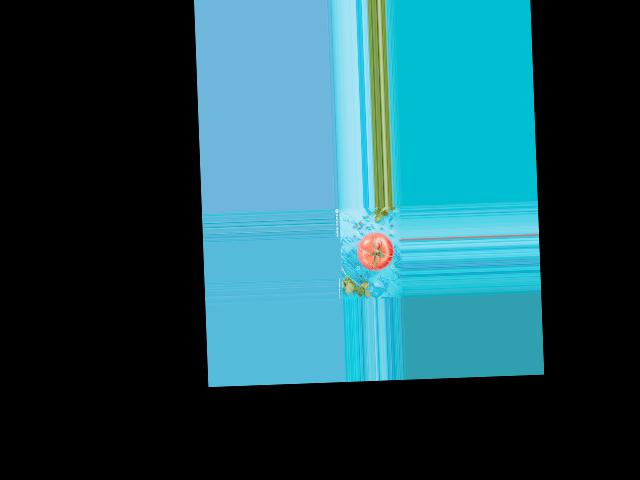tomato: (356, 232, 394, 272)
